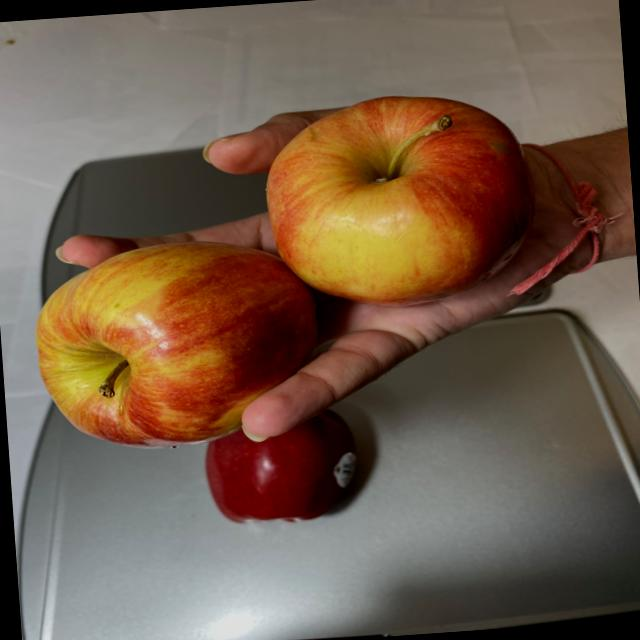apple: (19, 85, 544, 458), (182, 411, 368, 528)
